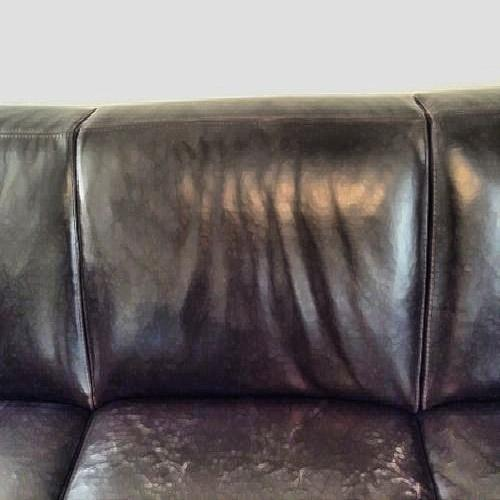sofa: (18, 107, 482, 460)
